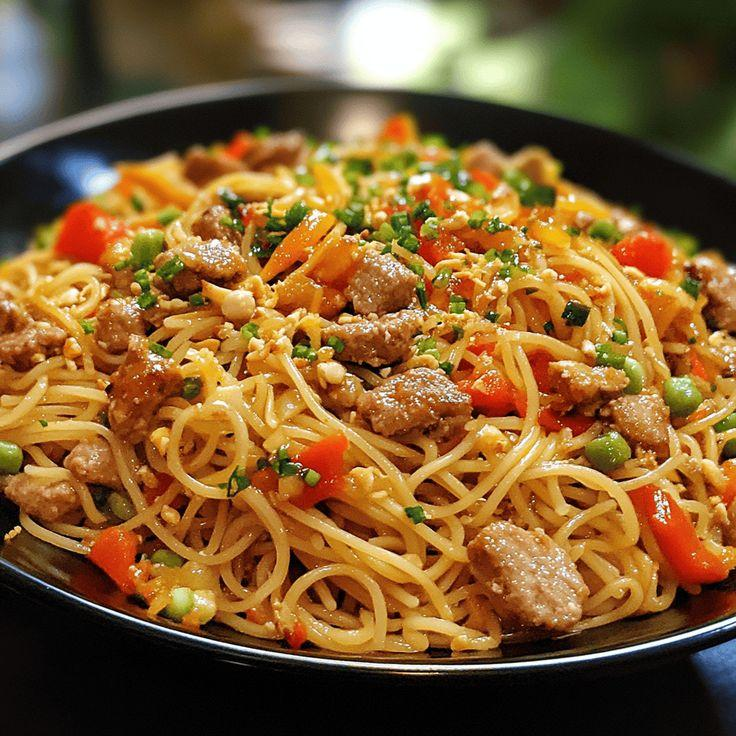pancit bihon: (2, 95, 736, 692)
